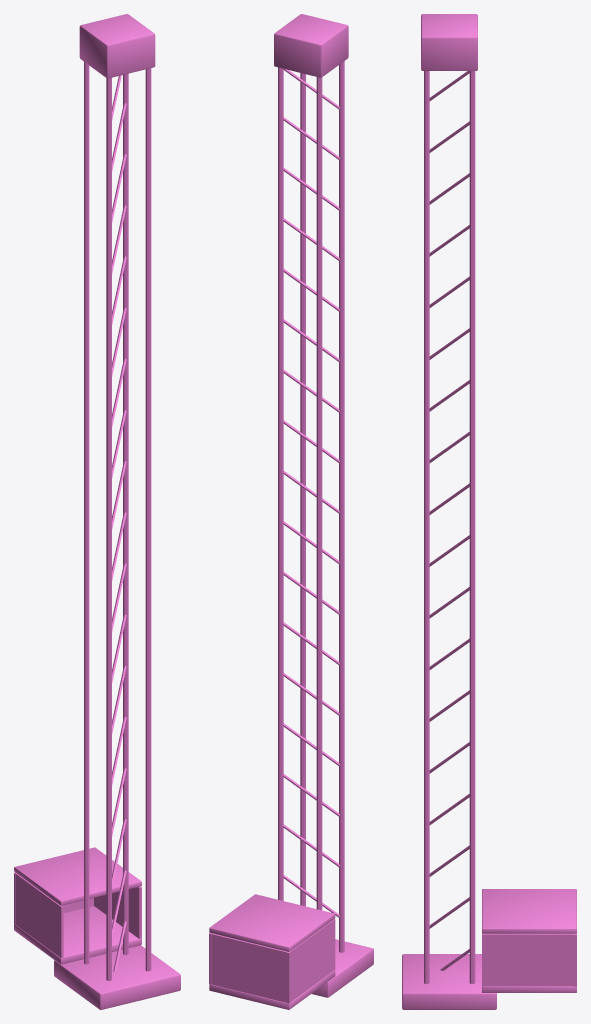
Rendered from Site_Hoist.fbx.
3 views of the same model, side by side, from view 1: azimuth 30°, elevation 25°; view 2: azimuth 150°, elevation 25°; view 3: azimuth 270°, elevation 25° (orthographic). The views are drawn at different scales.
Visible parts, largest first — view 1: Mast, Cage; view 2: Mast, Cage; view 3: Mast, Cage.
Part boxes in pixels (bbox=[...]): Mast: bbox=[54, 14, 180, 1009]; Cage: bbox=[14, 847, 141, 964]; Mast: bbox=[274, 14, 373, 997]; Cage: bbox=[209, 894, 335, 1009]; Mast: bbox=[402, 14, 496, 1009]; Cage: bbox=[482, 889, 576, 992].
Size of the model in its own units: 5 by 56.06 by 9.2.
Materials: 1 (1 with a texture image).
